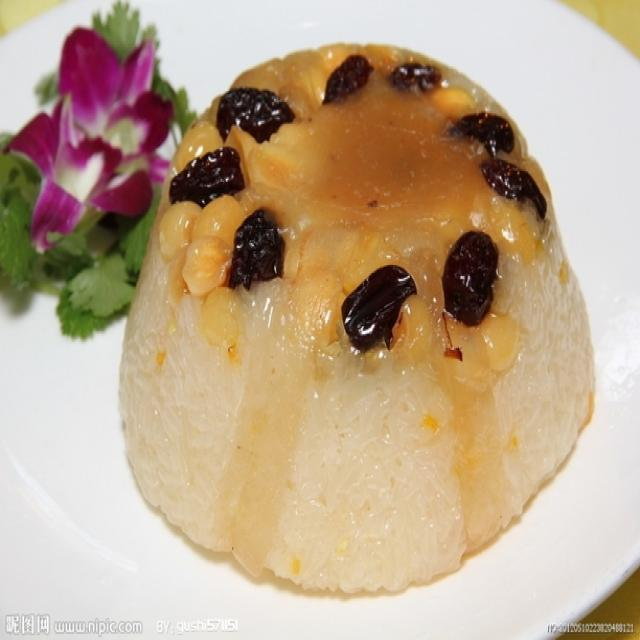米饭主食: (93, 28, 595, 595)
